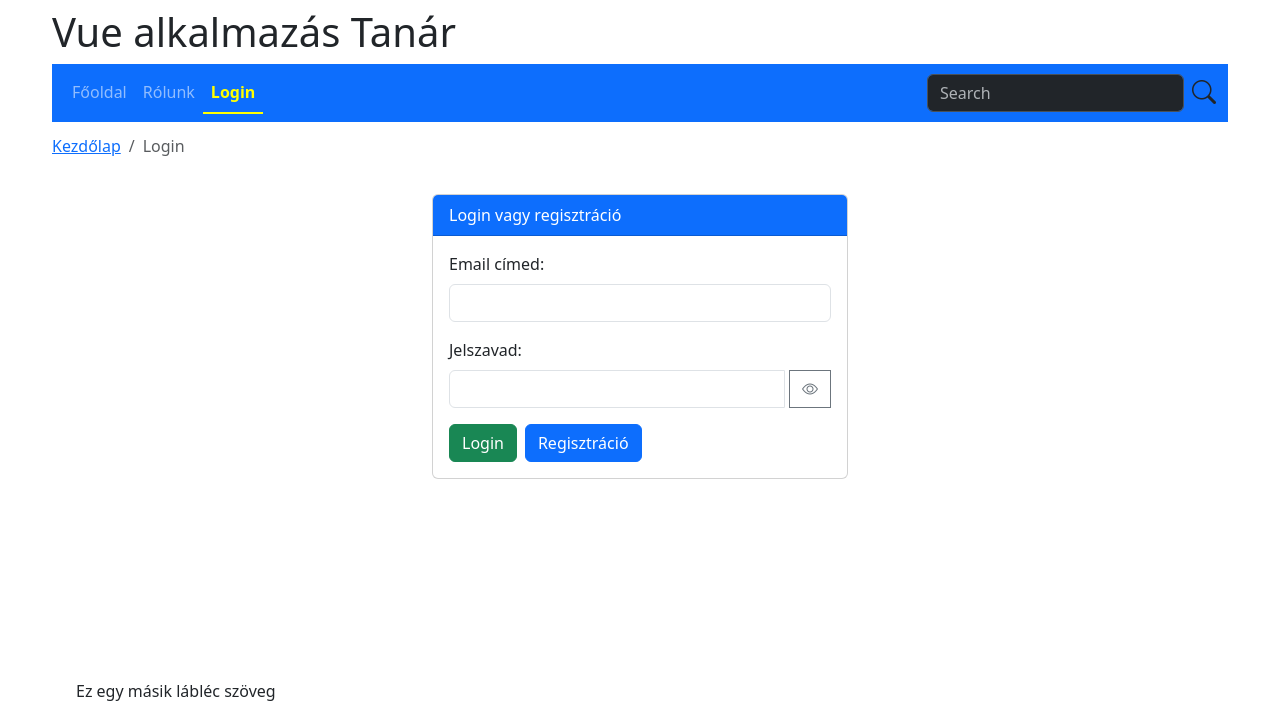
Test: Bejelentkezés folyamata › Sikertelen login üres mezőkkel (Bootstrap validáció)
Note: Megnyomjuk a gombot anélkül, hogy írnánk valamit
Click the submit button.
click(483, 443)  # box [449,424,517,462]
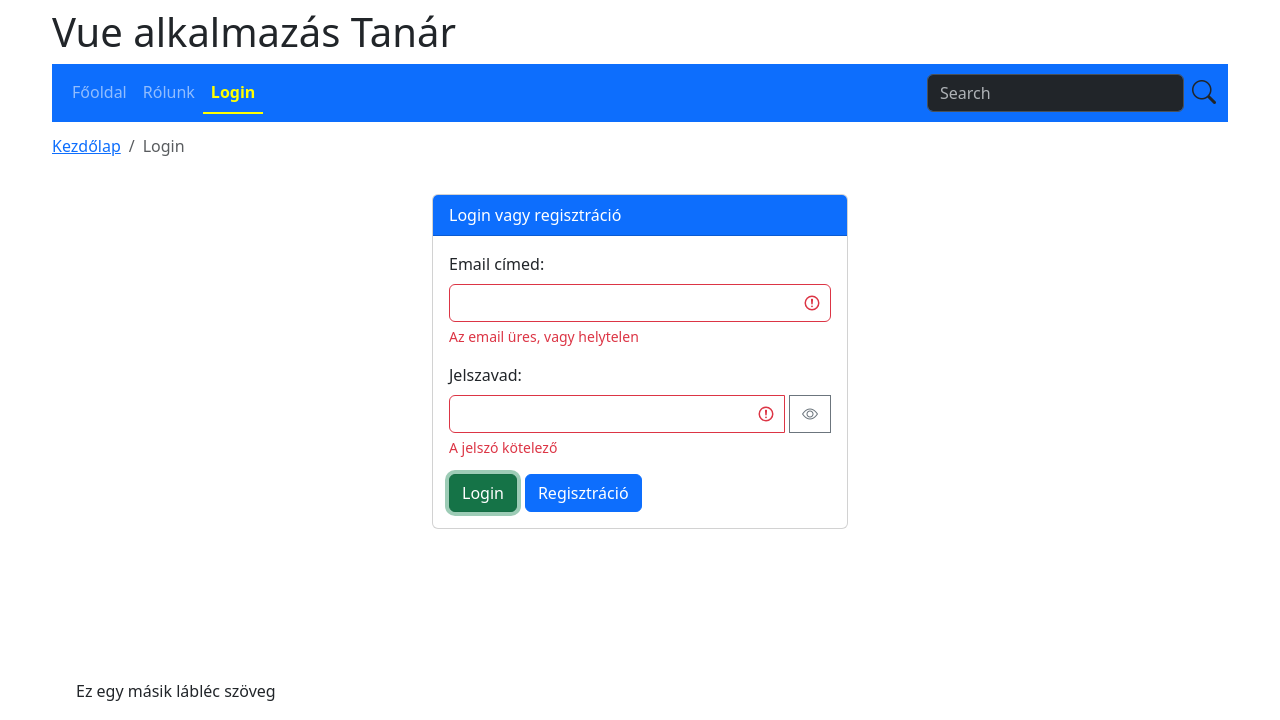
Expected: the text with class "invalid-feedback" shows "Az email üres", [449,327,639,346]
